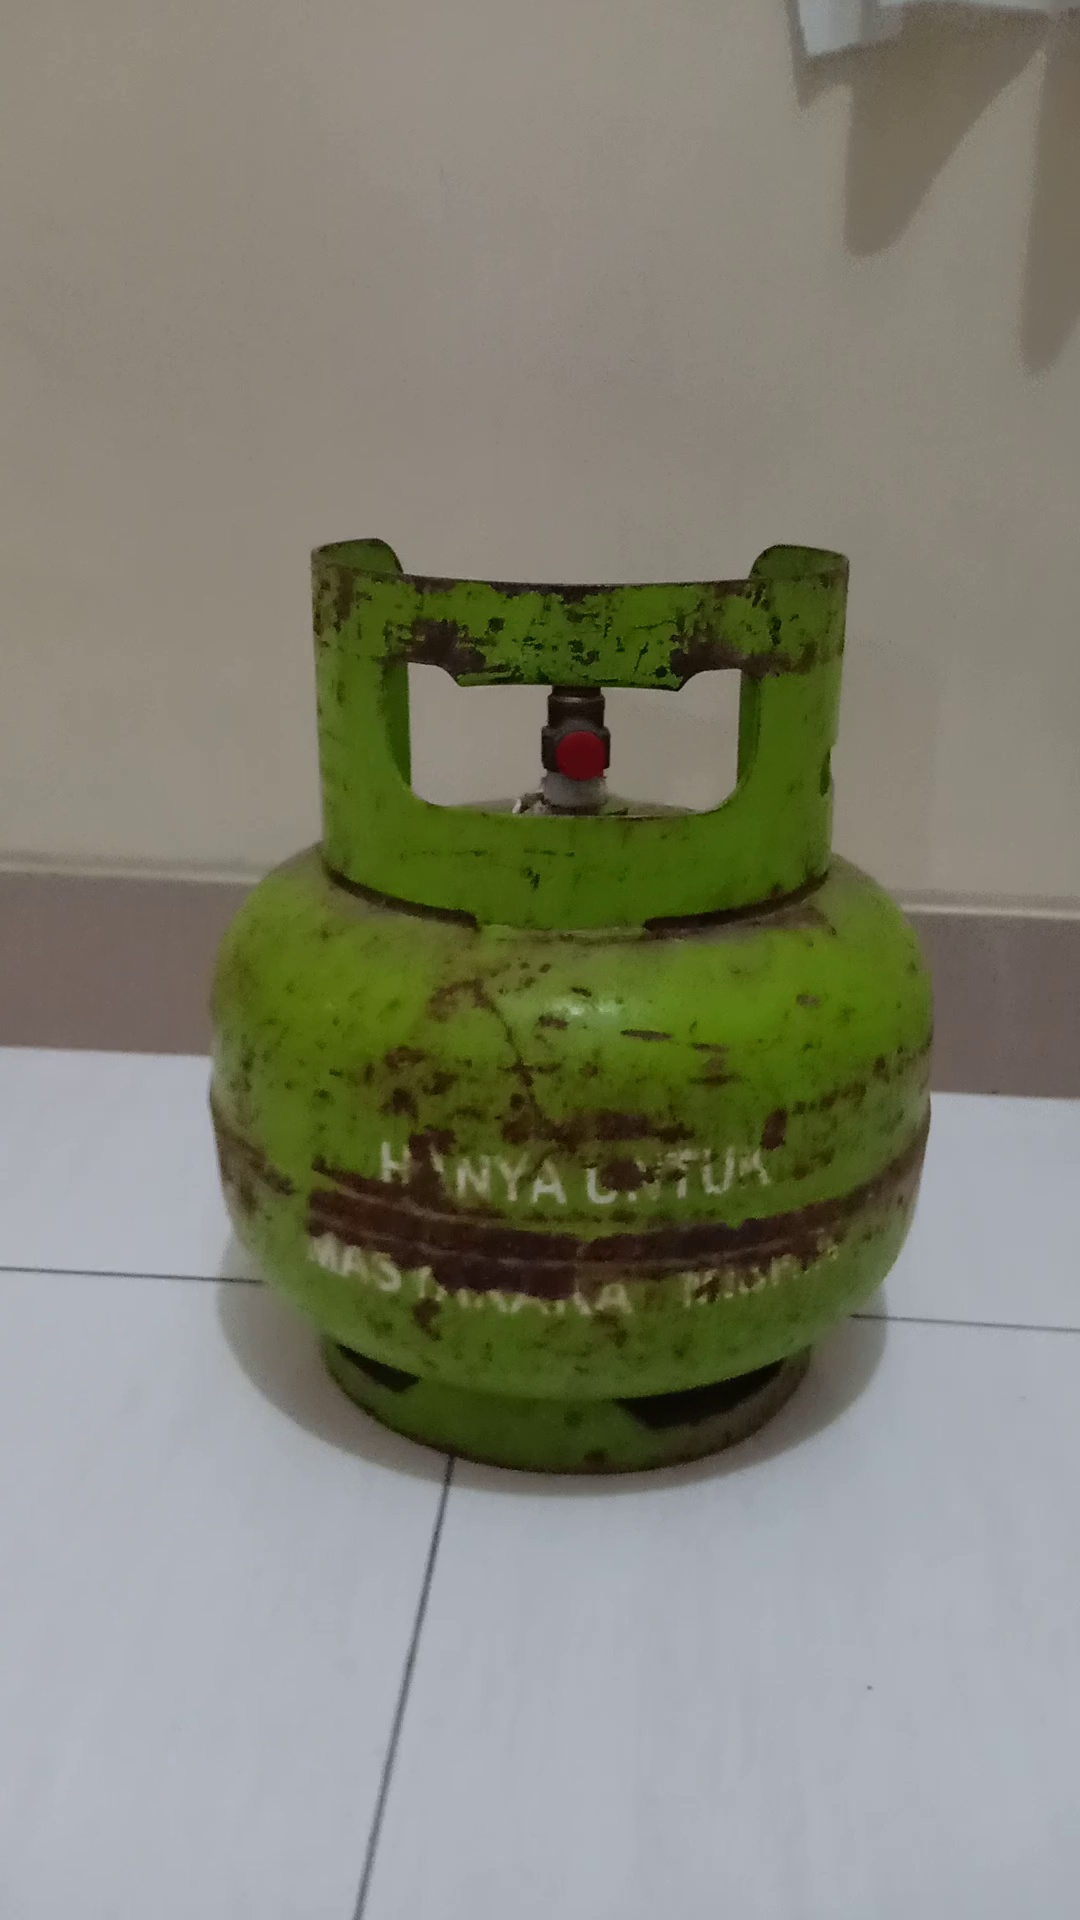gas_ijo: (212, 537, 940, 1493)
